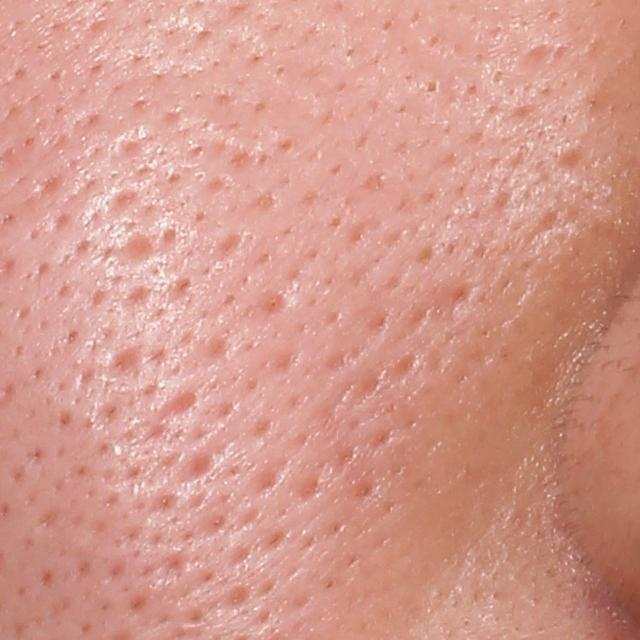atrophic_scar: (142, 389, 208, 431), (427, 279, 477, 326), (101, 343, 148, 391), (116, 231, 159, 267)
comedo: (422, 78, 445, 98)
